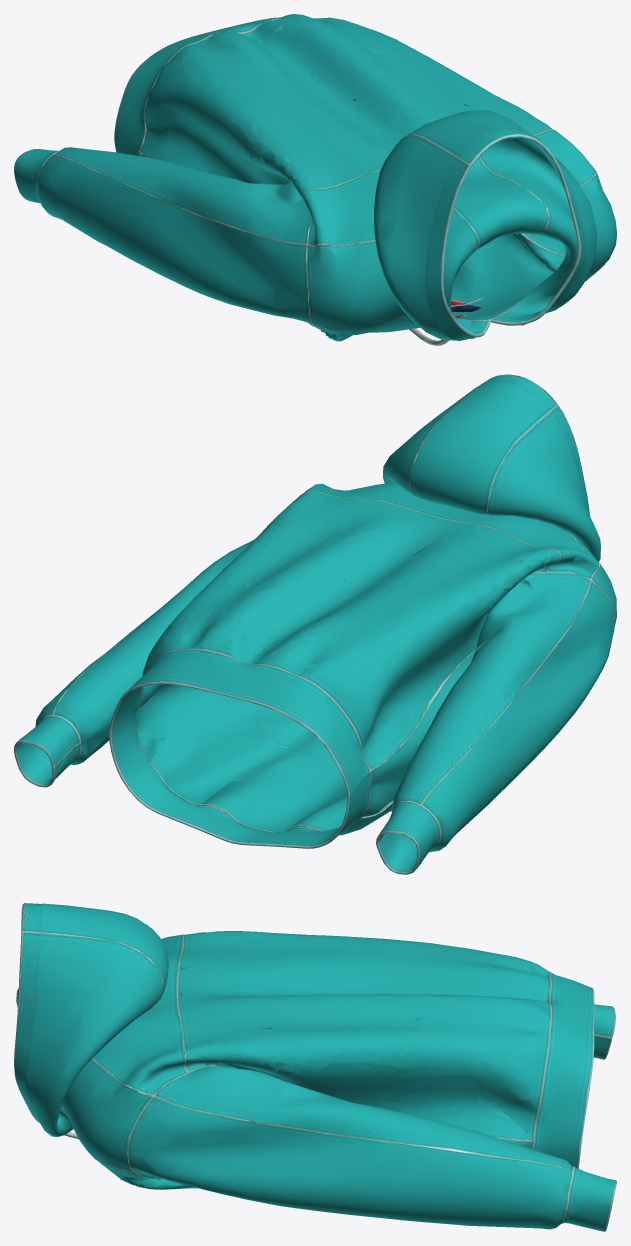
Rendered from spider.glb.
The picture shows the model from 3 angles, top to bottom: view 1: azimuth 30°, elevation 25°; view 2: azimuth 150°, elevation 25°; view 3: azimuth 270°, elevation 25°; orthographic projection. The views are drawn at different scales.
Visible parts, largest first — view 1: Object_6, Object_7, Object_8, Object_11, Object_10, Object_9; view 2: Object_6, Object_7, Object_9, Object_11, Object_12, Object_13, Object_8, Object_10; view 3: Object_7, Object_6, Object_11, Object_10, Object_13.
Boxes of the visible parts, x1,y1,x2,y2 form: Object_6: [37, 14, 598, 341]; Object_7: [140, 14, 616, 341]; Object_8: [189, 20, 586, 337]; Object_11: [14, 17, 279, 203]; Object_10: [51, 129, 605, 337]; Object_9: [182, 21, 565, 338]; Object_6: [142, 374, 614, 852]; Object_7: [35, 483, 616, 830]; Object_9: [61, 491, 581, 832]; Object_11: [14, 649, 440, 868]; Object_12: [16, 682, 419, 872]; Object_13: [14, 648, 441, 874]; Object_8: [136, 381, 571, 845]; Object_10: [53, 374, 614, 832]; Object_7: [61, 931, 573, 1229]; Object_6: [14, 903, 550, 1189]; Object_11: [533, 972, 615, 1231]; Object_10: [14, 903, 563, 1218]; Object_13: [532, 971, 616, 1231].
Size of the model in its own units: 63.39 by 41.29 by 81.43.
6 materials, 6 textured.
